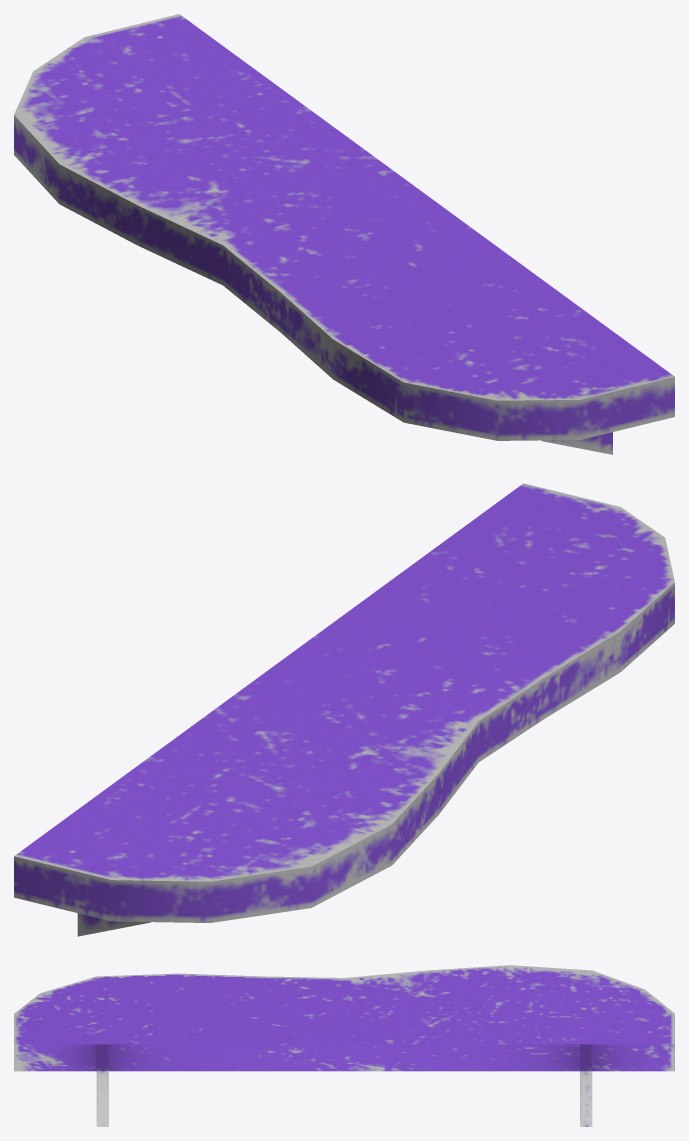
Rendered from Prop_115_Simpleshelf.fbx.
The picture shows the model from 3 angles, top to bottom: view 1: azimuth 30°, elevation 25°; view 2: azimuth 150°, elevation 25°; view 3: azimuth 270°, elevation 25°; orthographic projection. The views are drawn at different scales.
Parts seen in each view (by area): view 1: Prop_115_Simpleshelf; view 2: Prop_115_Simpleshelf; view 3: Prop_115_Simpleshelf.
Boxes of the visible parts, left/top/right/bottom form: Prop_115_Simpleshelf: left=14, top=14, right=674, bottom=454; Prop_115_Simpleshelf: left=14, top=483, right=674, bottom=936; Prop_115_Simpleshelf: left=14, top=965, right=674, bottom=1126.
Size of the model in its own units: 0.5681 by 0.275 by 2.
1 material, 1 textured.
